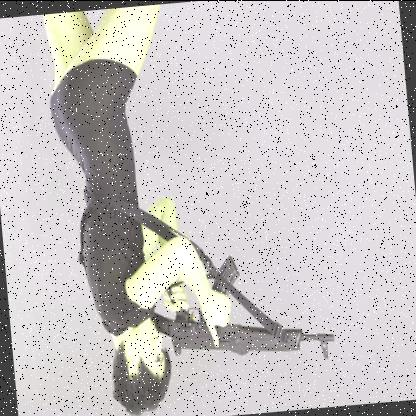rifle: (139, 245, 337, 379)
